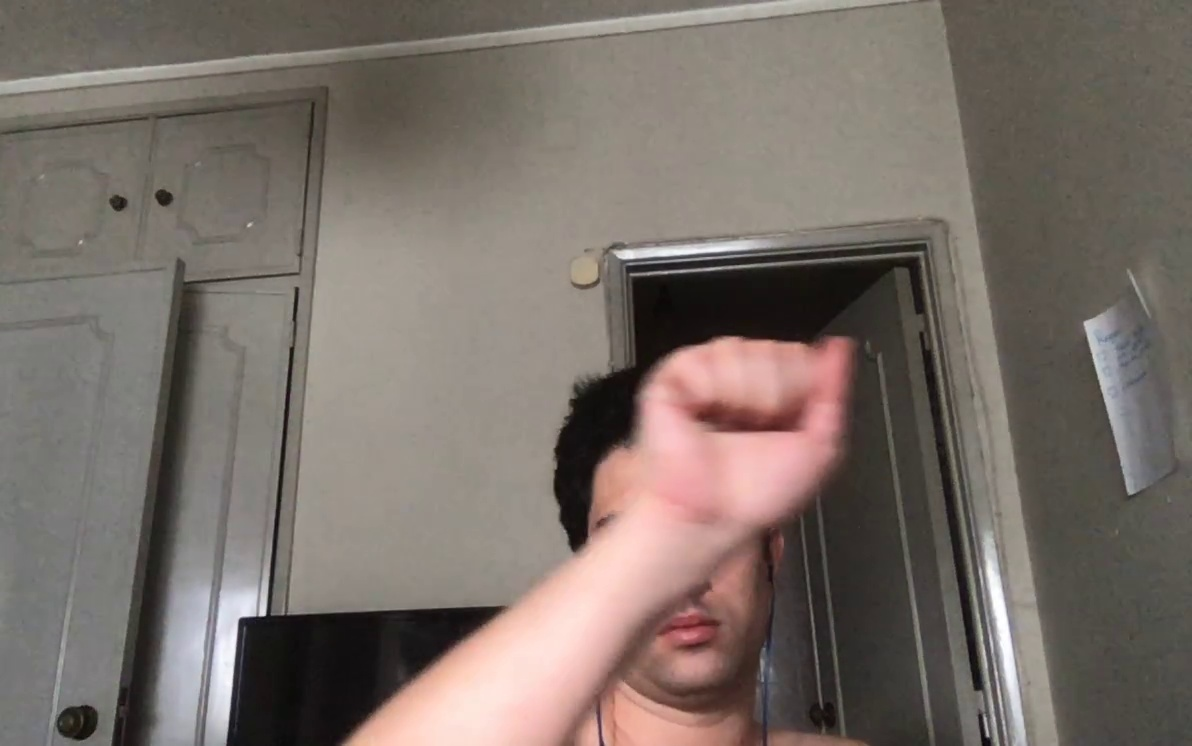a: (606, 320, 881, 536)
